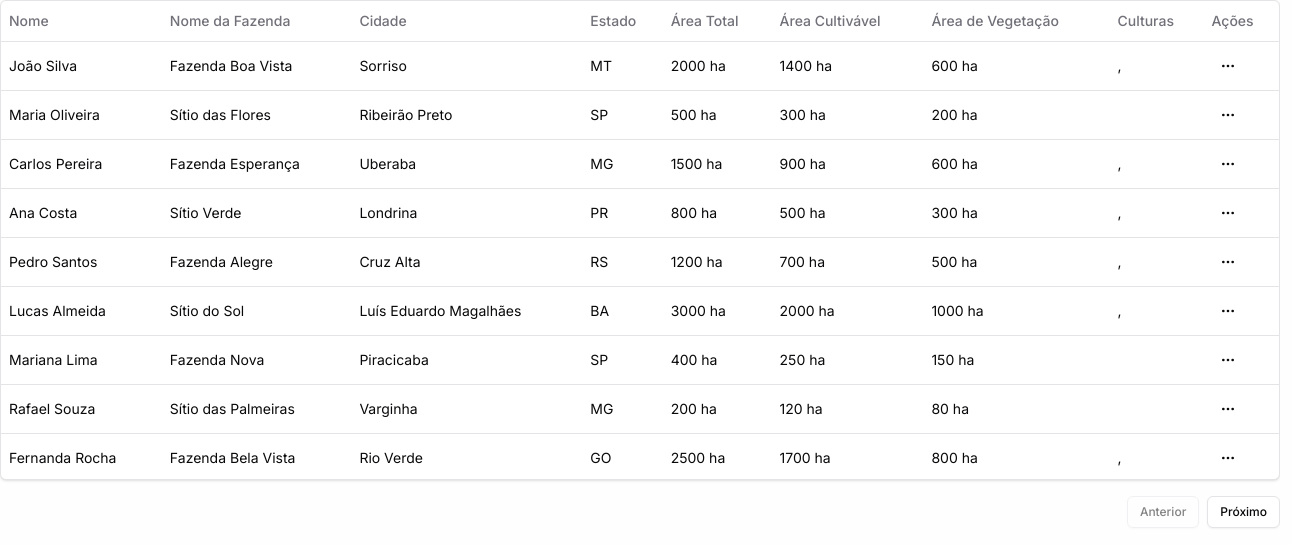
Test: FarmerTable › handles pagination correctly
Check: the button "Anterior" is disabled, box 1127,496 -> 1199,528
Click the button "Próximo": (1244, 512) 1207,496 -> 1280,528
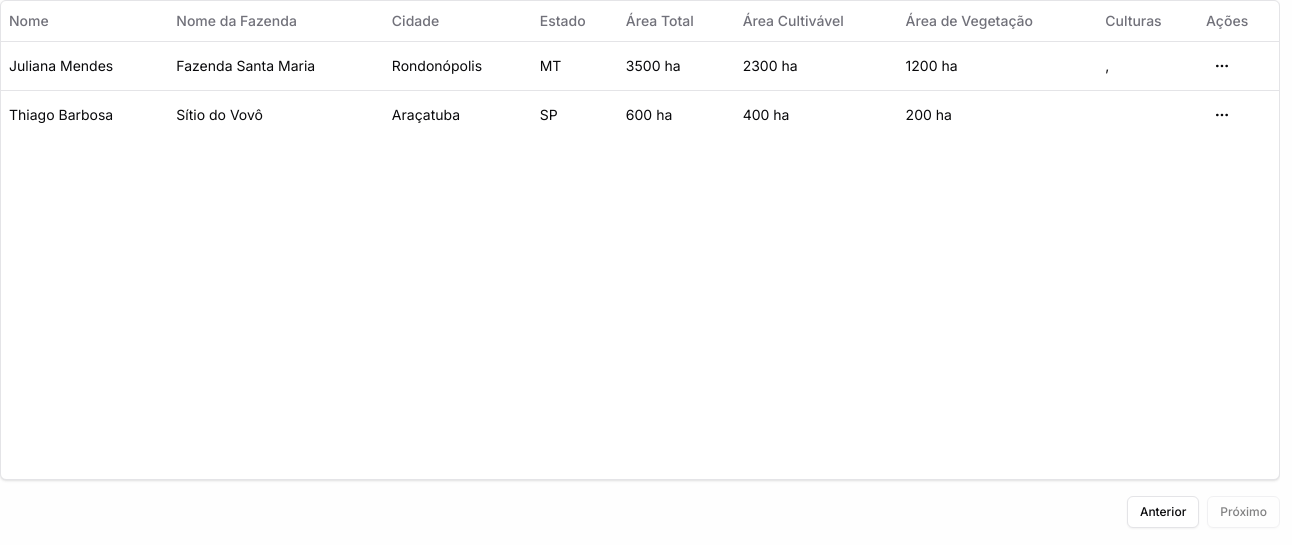
Check: the button "Anterior" is enabled
Check: the text "Juliana Mendes" is shown, box 1,41 -> 168,90
Click the button "Anterior": (1163, 512) 1127,496 -> 1199,528
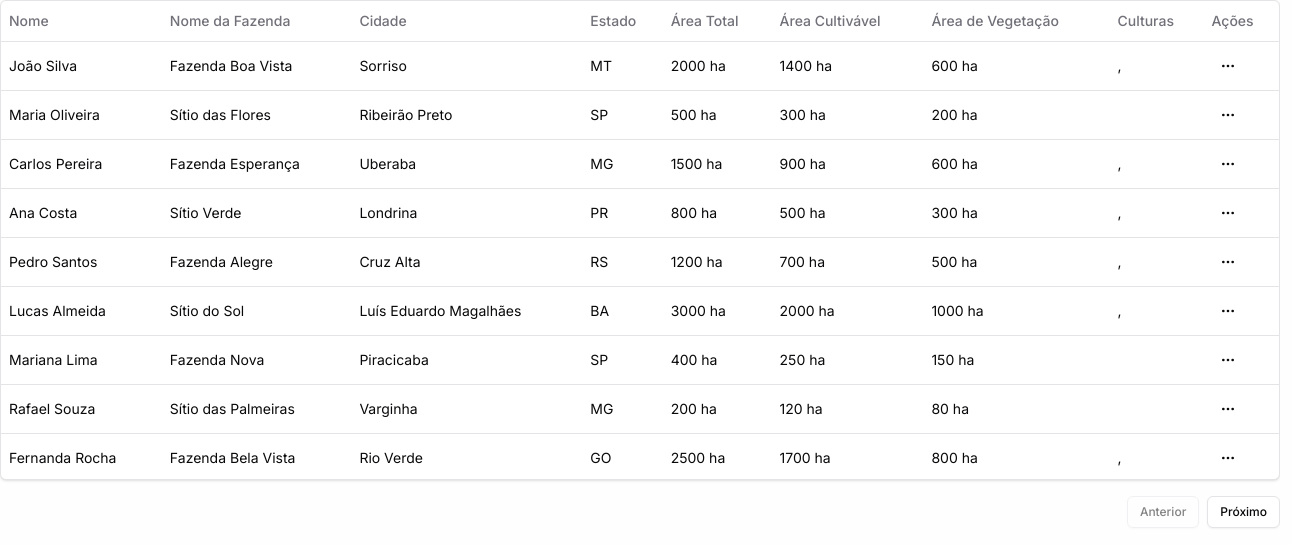
Check: the button "Anterior" is disabled, box 1127,496 -> 1199,528
Check: the text "João Silva" is shown, box 1,41 -> 162,90
